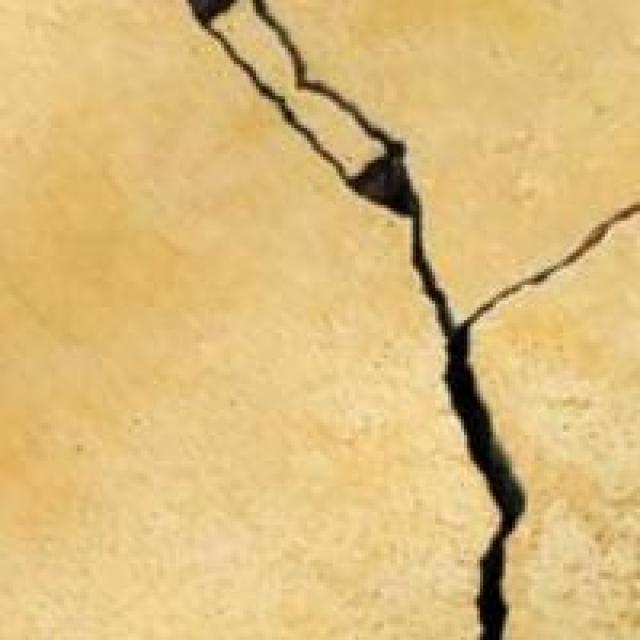crack: (176, 0, 637, 637)
